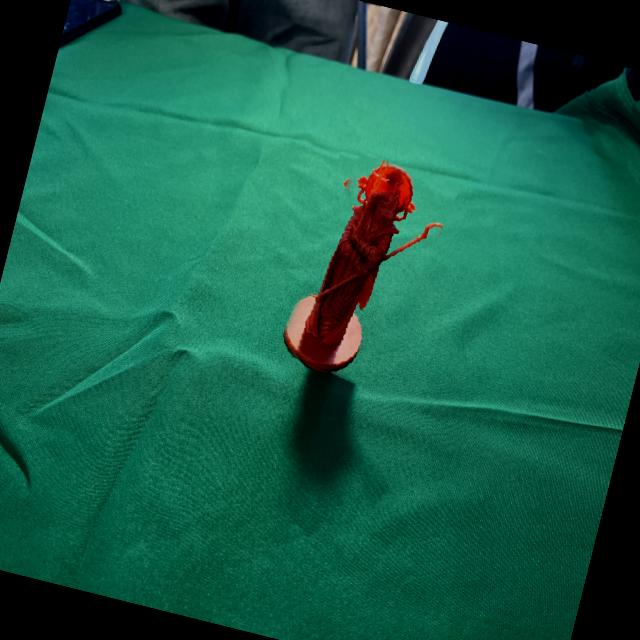amon: (280, 147, 453, 394)
